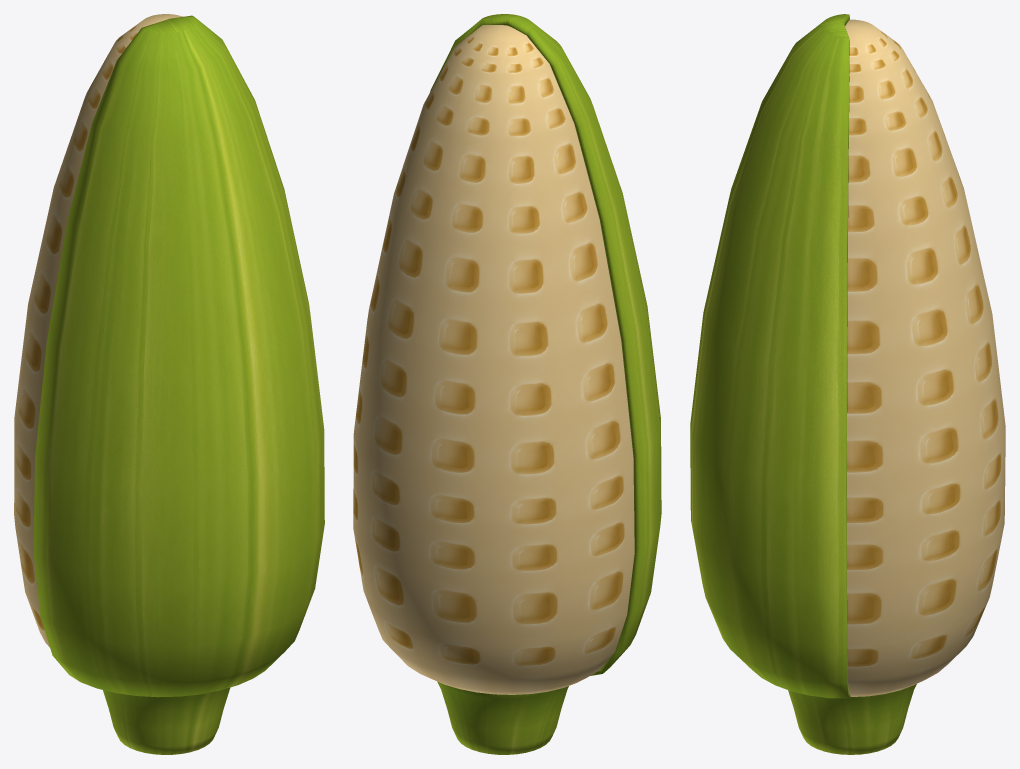
File: misircik.fbx
3 views of the same model, side by side, from view 1: azimuth 30°, elevation 25°; view 2: azimuth 150°, elevation 25°; view 3: azimuth 270°, elevation 25° (orthographic).
Visible parts, largest first — view 1: yaprak_2.001, kocan.002, Cylinder.003; view 2: kocan.002, yaprak_2.001, Cylinder.003; view 3: yaprak_2.001, kocan.002, Cylinder.003.
Boxes of the visible parts, x1=… form: yaprak_2.001: x1=33, y1=15, x2=324, y2=697; kocan.002: x1=14, y1=14, x2=182, y2=647; Cylinder.003: x1=103, y1=687, x2=230, y2=754; kocan.002: x1=353, y1=25, x2=634, y2=694; yaprak_2.001: x1=430, y1=14, x2=661, y2=675; Cylinder.003: x1=437, y1=681, x2=568, y2=754; yaprak_2.001: x1=690, y1=14, x2=850, y2=698; kocan.002: x1=845, y1=19, x2=1005, y2=696; Cylinder.003: x1=788, y1=684, x2=916, y2=754.
Size of the model in its own units: 1.8 by 4.62 by 1.84.
2 materials, 2 textured.
